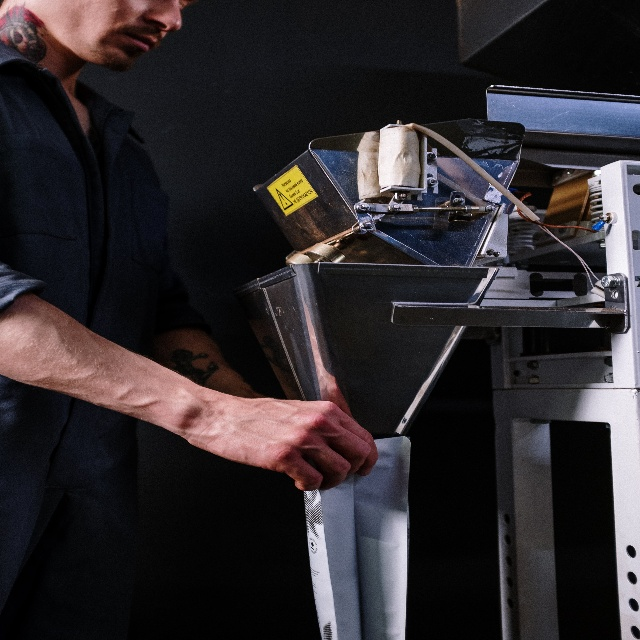Sin_guantes: (227, 396, 380, 493)
